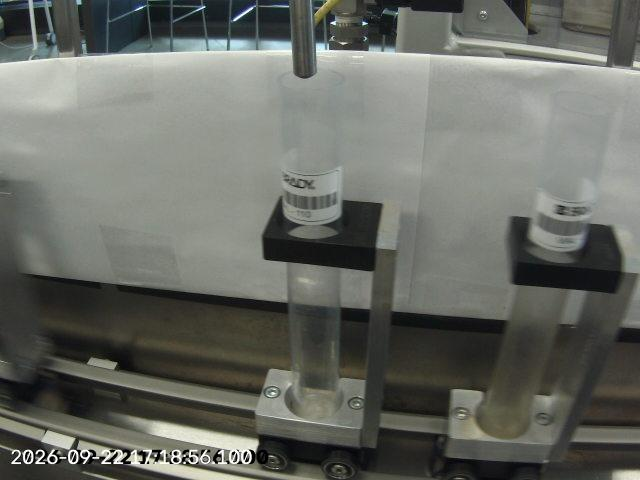vial: (475, 89, 618, 439), (275, 66, 347, 417)
